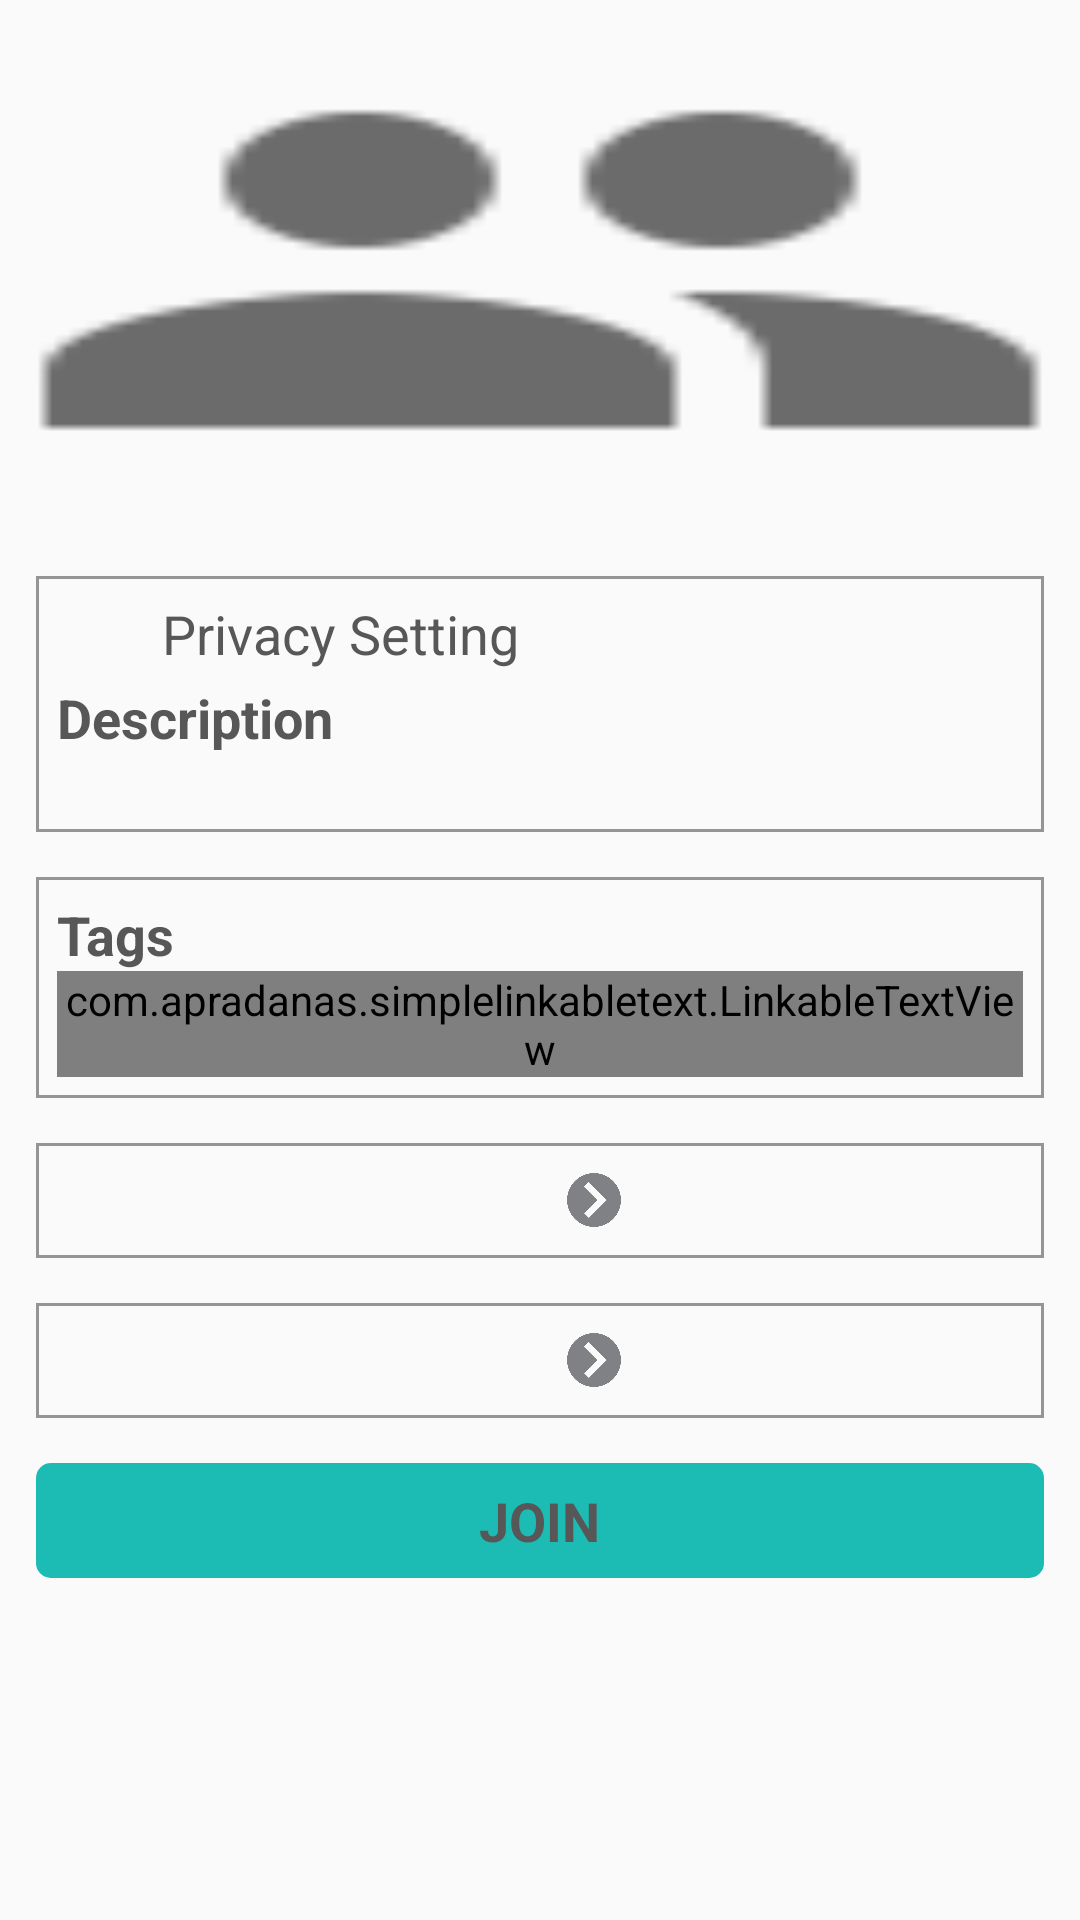

Icon bounding boxes for this 1080px x 1920px phone screenshot, format (x1, y1, x2, y2):
rightarrow: (567, 1173, 621, 1227), (567, 1333, 621, 1387)
